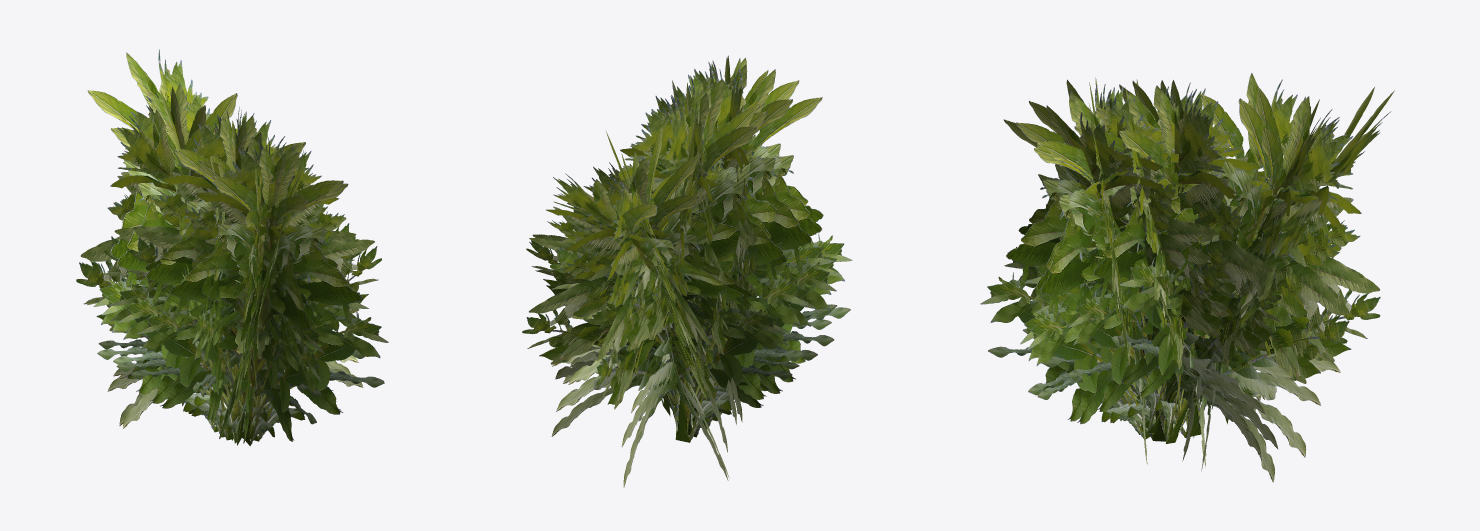
File: jbush1.fbx
The picture shows the model from 3 angles, left to right: view 1: azimuth 30°, elevation 25°; view 2: azimuth 150°, elevation 25°; view 3: azimuth 270°, elevation 25°; orthographic projection. The views are drawn at different scales.
Visible parts, largest first — view 1: NaturePlants0005_1_S.011; view 2: NaturePlants0005_1_S.011; view 3: NaturePlants0005_1_S.011.
Part boxes in pixels (x1,y1,x2,y2): NaturePlants0005_1_S.011: (76, 49, 388, 446); NaturePlants0005_1_S.011: (522, 55, 852, 487); NaturePlants0005_1_S.011: (980, 73, 1394, 482).
Bounding box in the file's own units: 86.11 × 124 × 137.
Materials: 1 (1 with a texture image).
